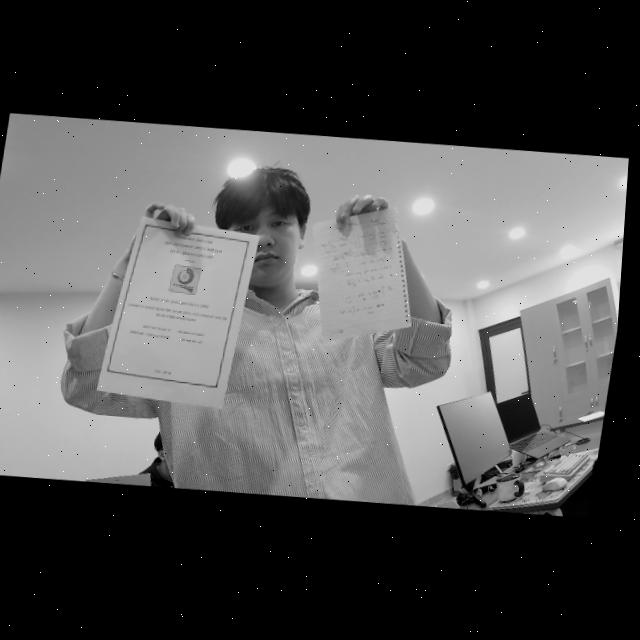document: (96, 215, 259, 408), (312, 207, 412, 341)
face: (228, 193, 304, 285)
